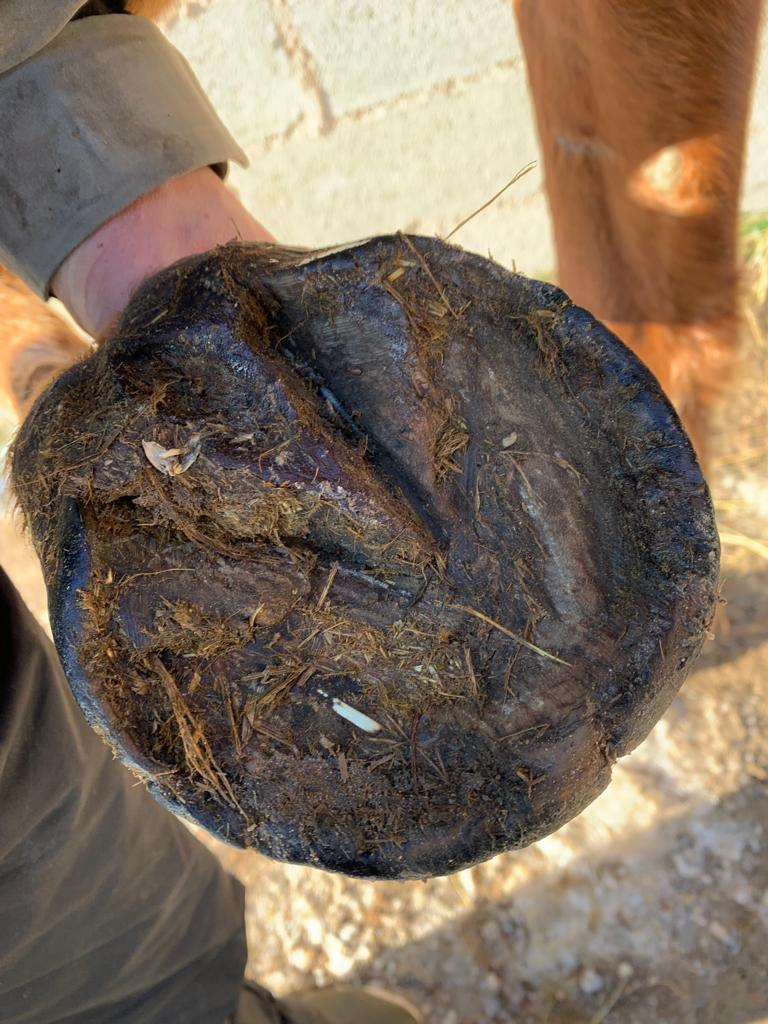horsesole: (48, 235, 721, 882)
